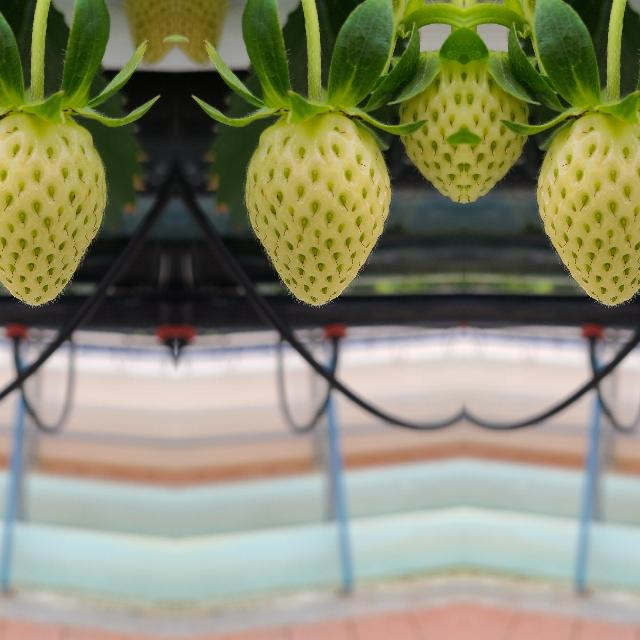Health_25: (244, 113, 390, 305), (0, 113, 106, 305), (536, 113, 640, 305), (394, 48, 462, 204), (464, 48, 532, 204)
